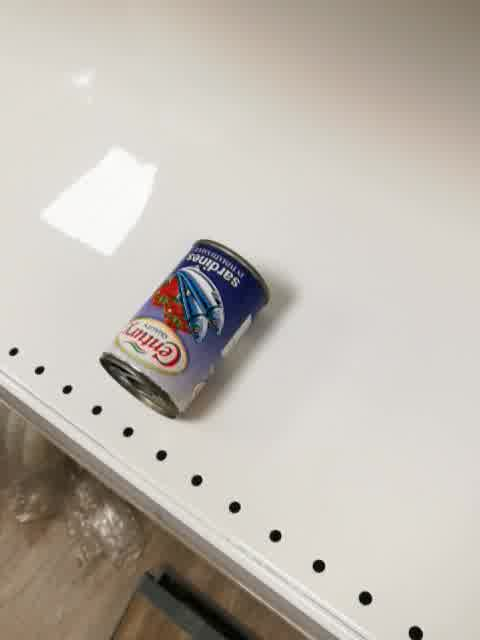sardine: (98, 238, 273, 421)
